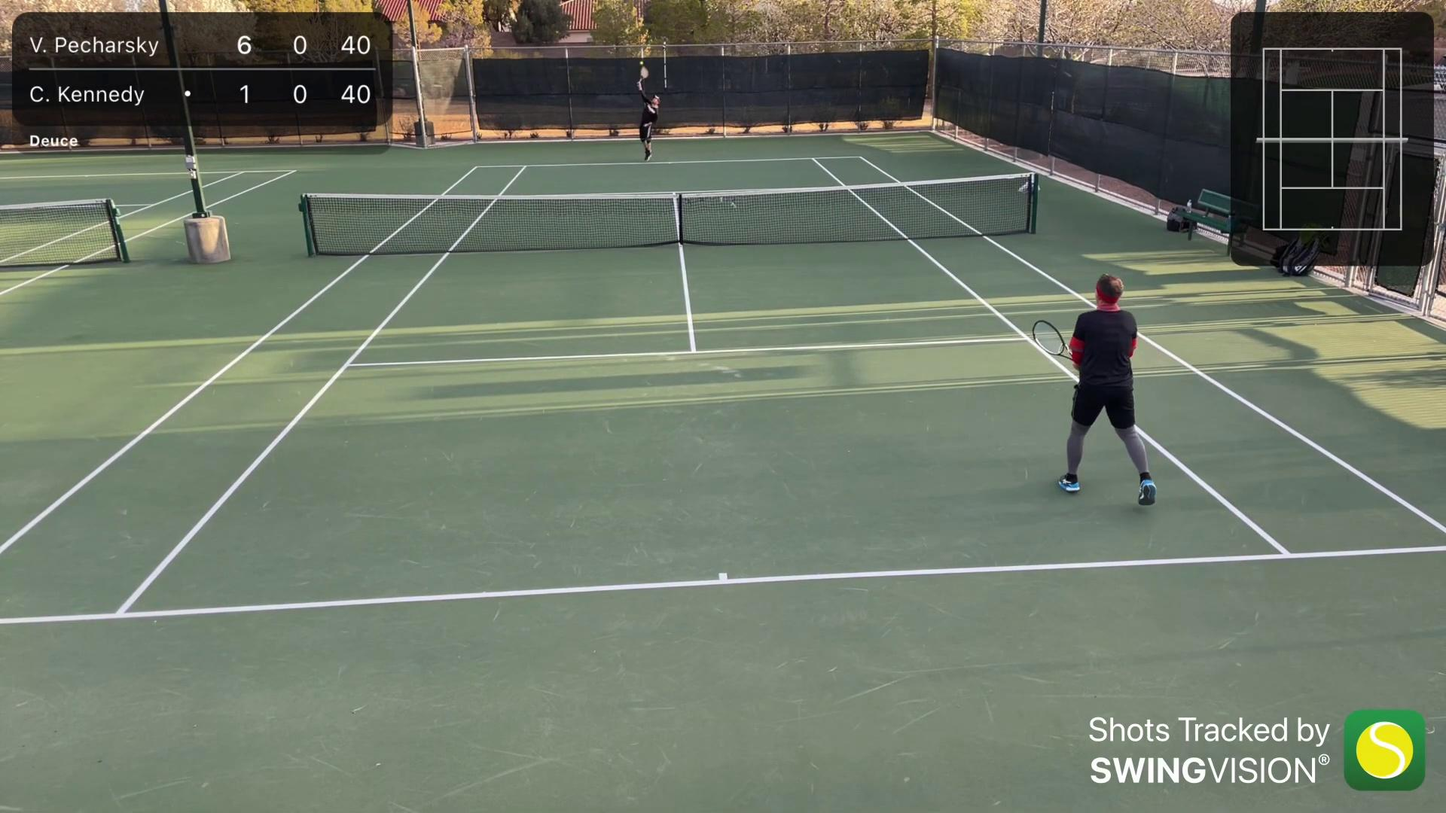ball: (638, 61, 644, 65)
